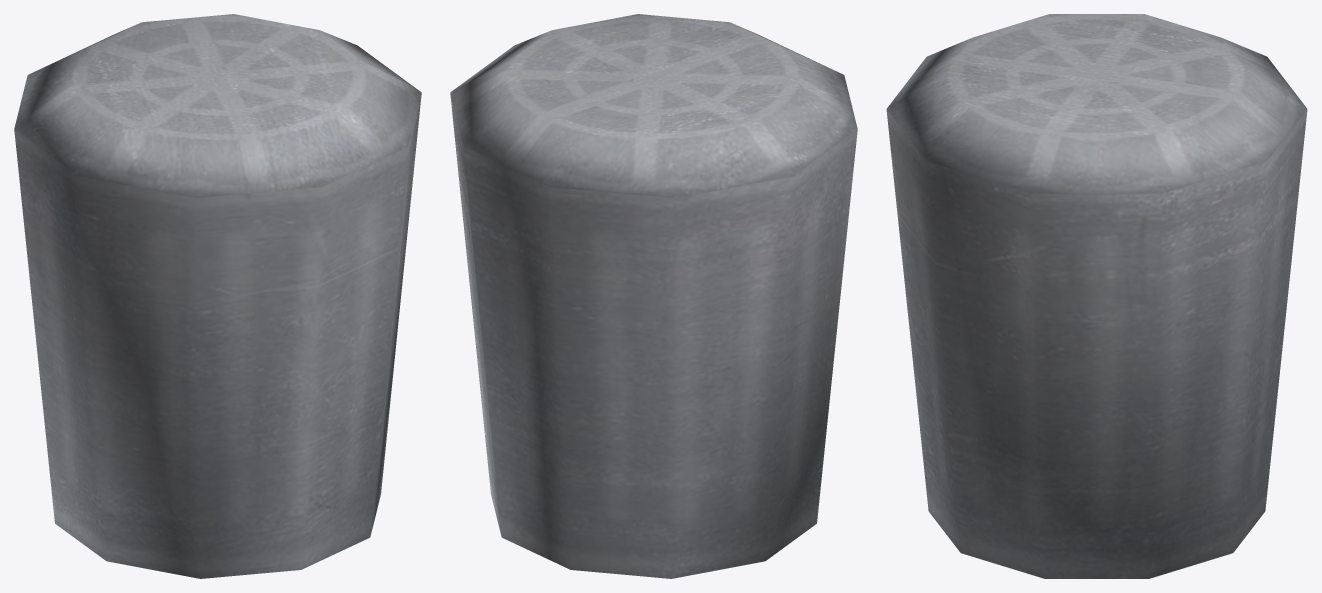
File: c2_bin_lod2.fbx
The picture shows the model from 3 angles, left to right: view 1: azimuth 30°, elevation 25°; view 2: azimuth 150°, elevation 25°; view 3: azimuth 270°, elevation 25°; orthographic projection.
Visible parts, largest first — view 1: Mesh; view 2: Mesh; view 3: Mesh.
Part boxes in pixels (box(x1,y1,x2,y2)): Mesh: box(14, 14, 421, 578); Mesh: box(450, 14, 857, 578); Mesh: box(886, 14, 1307, 578).
Bounding box in the file's own units: 43.75 × 52.5 × 46.
